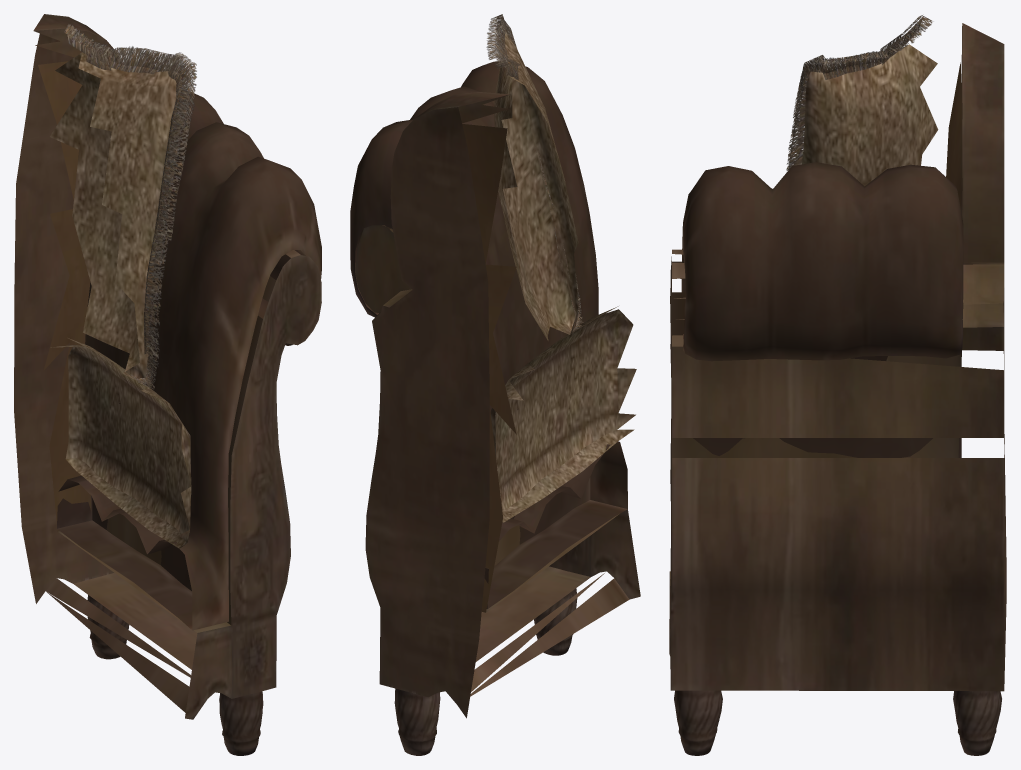
Rendered from sofa_arm_b.glb.
The picture shows the model from 3 angles, left to right: view 1: azimuth 30°, elevation 25°; view 2: azimuth 150°, elevation 25°; view 3: azimuth 270°, elevation 25°; orthographic projection. The views are drawn at different scales.
Parts seen in each view (by area): view 1: sofa_03.002; view 2: sofa_03.002; view 3: sofa_03.002.
Boxes of the visible parts, x1,y1,x2,y2 form: sofa_03.002: [14, 14, 321, 755]; sofa_03.002: [350, 14, 640, 755]; sofa_03.002: [669, 15, 1006, 755].
Size of the model in its own units: 10.47 by 39.42 by 17.14.
Materials: 2 (2 with a texture image).
